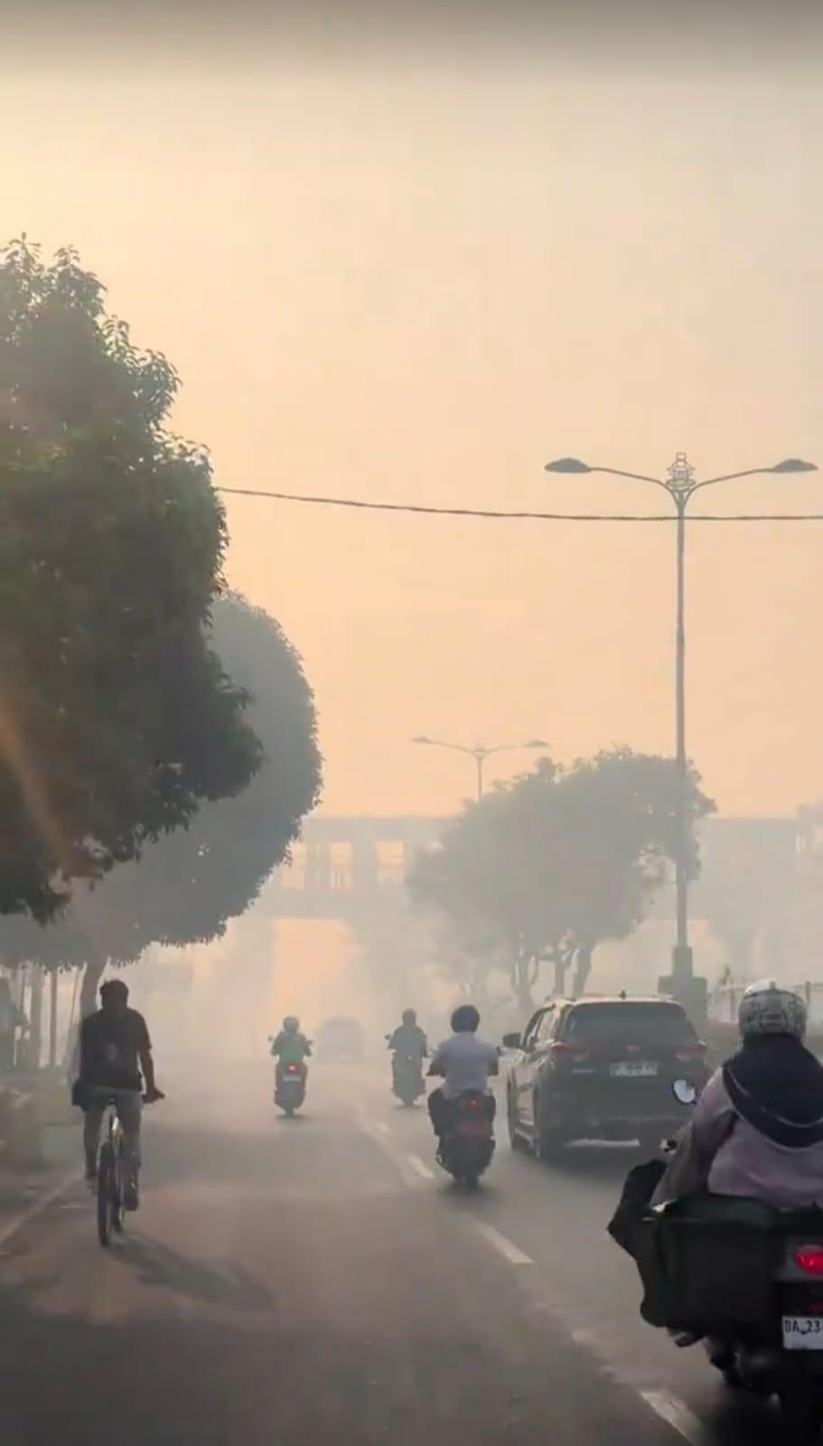Deteksi-Objek-Citra-Berasap: (0, 0, 822, 1113)
Gedung: (261, 805, 823, 1008)
Kendaraan: (607, 1147, 823, 1423), (503, 991, 714, 1162), (85, 1093, 145, 1248), (428, 1076, 497, 1191), (270, 1039, 312, 1118), (388, 1041, 428, 1108), (314, 1017, 369, 1065)
Manusia: (646, 979, 823, 1214), (71, 978, 164, 1210), (426, 1004, 501, 1151), (384, 1009, 432, 1087), (268, 1014, 313, 1087)
Vegetasi: (0, 235, 262, 929), (0, 580, 325, 1075), (402, 748, 715, 1021)
